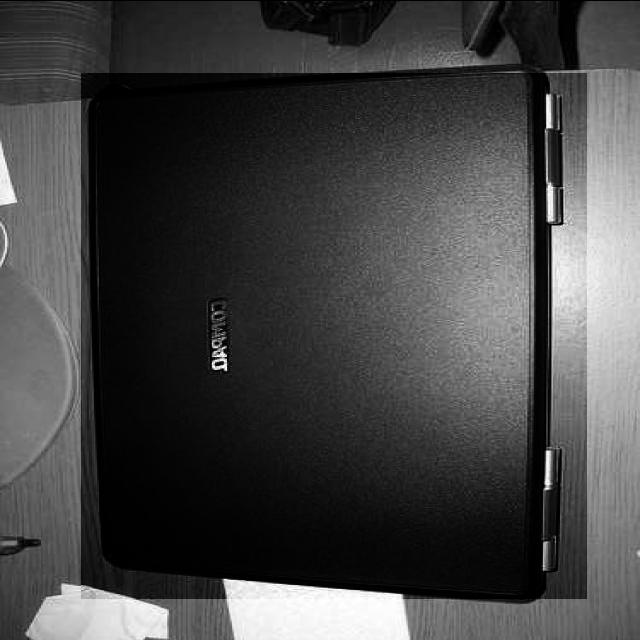-keyboard-: (81, 73, 587, 600)
